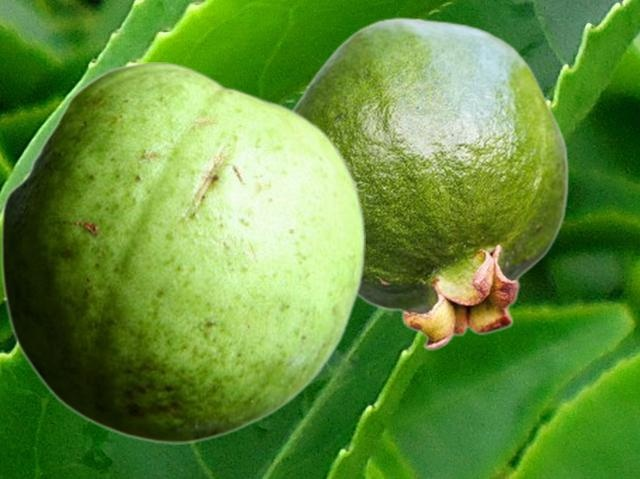guava: (0, 62, 364, 443), (290, 17, 568, 350)
